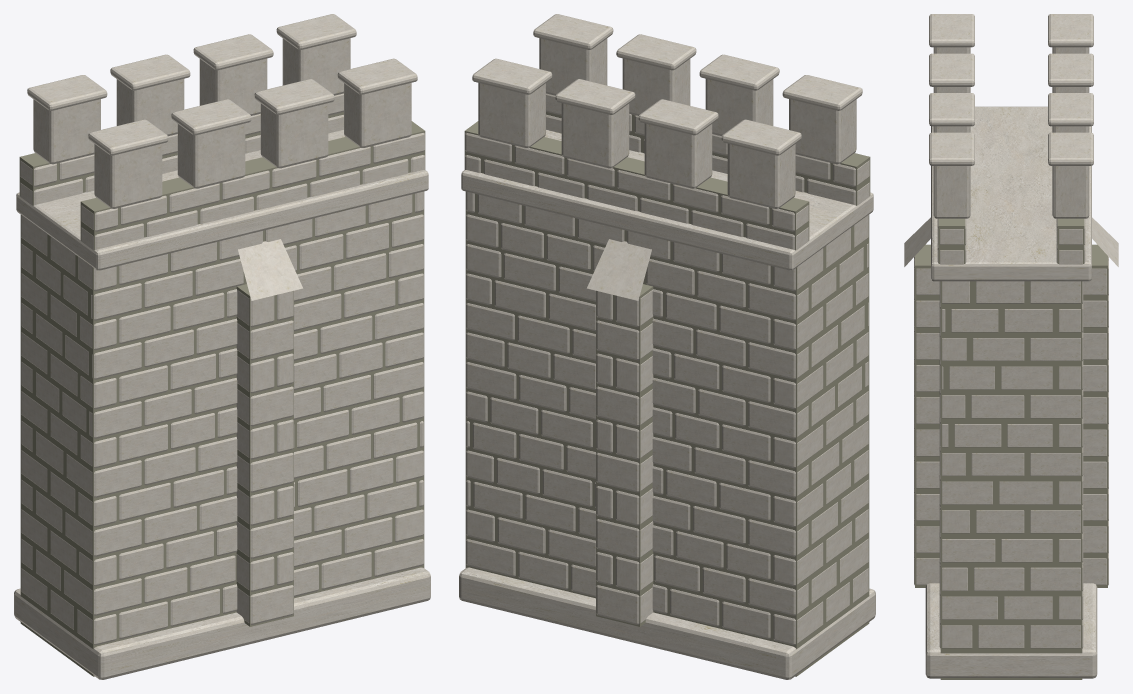
Rendered from wall_south.glb.
The picture shows the model from 3 angles, left to right: view 1: azimuth 30°, elevation 25°; view 2: azimuth 150°, elevation 25°; view 3: azimuth 270°, elevation 25°; orthographic projection. The views are drawn at different scales.
Parts seen in each view (by area): view 1: Hand-cut curtain masonry, Hand-cut curtain masonry core, Battlement merlons, Wall buttress, Parapet masonry, Weathered coping, Battered wall plinth, Continuous wall walk, Parapet masonry core, Wall buttress core, Buttress sloped shoulder; view 2: Hand-cut curtain masonry, Hand-cut curtain masonry core, Battlement merlons, Wall buttress, Parapet masonry, Weathered coping, Battered wall plinth, Continuous wall walk, Parapet masonry core, Wall buttress core, Buttress sloped shoulder; view 3: Hand-cut curtain masonry, Hand-cut curtain masonry core, Continuous wall walk, Wall buttress, Weathered coping, Battered wall plinth, Battlement merlons, Wall buttress core, Parapet masonry, Buttress sloped shoulder, Parapet masonry core.
Boxes of the visible parts, box(x1,y1,x2,y2) form: Hand-cut curtain masonry: box(21, 191, 423, 645); Hand-cut curtain masonry core: box(20, 191, 424, 676); Battlement merlons: box(33, 38, 411, 208); Wall buttress: box(236, 290, 293, 624); Parapet masonry: box(20, 93, 424, 250); Weathered coping: box(27, 14, 417, 155); Battered wall plinth: box(14, 567, 430, 679); Continuous wall walk: box(16, 130, 428, 270); Parapet masonry core: box(19, 112, 425, 250); Wall buttress core: box(236, 284, 293, 626); Buttress sloped shoulder: box(238, 239, 302, 300); Hand-cut curtain masonry: box(466, 191, 868, 645); Hand-cut curtain masonry core: box(465, 191, 869, 676); Battlement merlons: box(478, 38, 856, 208); Wall buttress: box(596, 290, 653, 624); Parapet masonry: box(465, 93, 869, 250); Weathered coping: box(472, 14, 862, 155); Battered wall plinth: box(459, 567, 875, 679); Continuous wall walk: box(461, 130, 873, 270); Parapet masonry core: box(464, 112, 870, 250); Wall buttress core: box(596, 284, 653, 626); Buttress sloped shoulder: box(587, 239, 651, 300); Hand-cut curtain masonry: box(939, 281, 1083, 648); Hand-cut curtain masonry core: box(940, 281, 1082, 679); Continuous wall walk: box(931, 106, 1091, 281); Wall buttress: box(914, 256, 1108, 585); Weathered coping: box(929, 14, 1093, 165); Battered wall plinth: box(925, 583, 1097, 678); Battlement merlons: box(933, 47, 1089, 218); Wall buttress core: box(915, 244, 1107, 587); Parapet masonry: box(937, 218, 1085, 264); Buttress sloped shoulder: box(904, 217, 1118, 266); Parapet masonry core: box(938, 218, 1084, 263).
Size of the model in its own units: 2.83 by 4.3 by 1.62.
4 materials, 3 textured.
